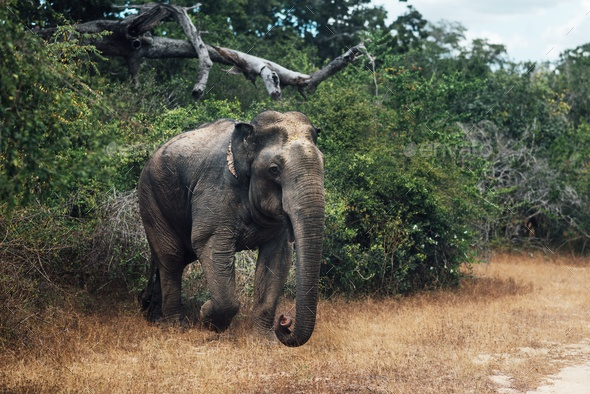elephant: (135, 111, 325, 345)
